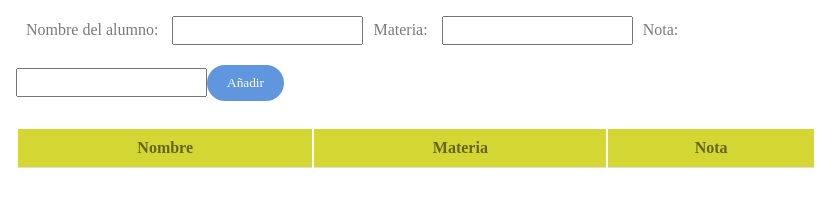
it: Students › El nombre del alumno aparece en la tabla después de haber hecho click en el botón de añadir
Type "Nombre del alumno" into the field labelled "Nombre del alumno:".
click(268, 30); type("Nombre del alumno")  # box [172,16,363,45]
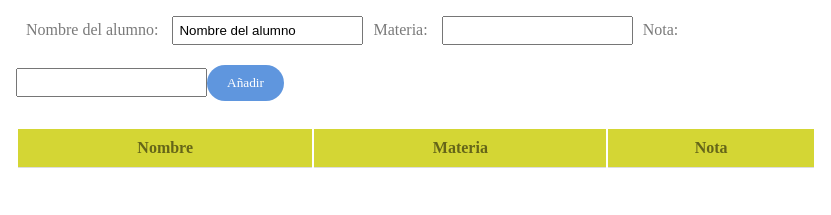
Click the button with class "add".
click(246, 83)  # box [207,65,284,101]
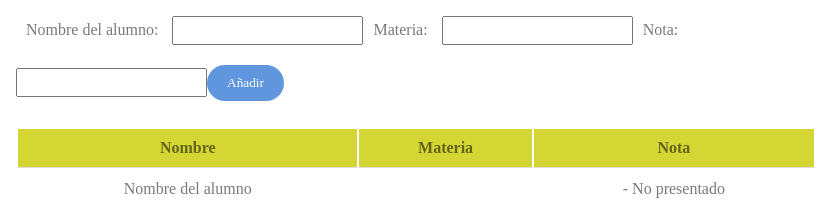
expect the table with class "tabla" shows "Nombre del alumno": met, box [124,180,252,197]
